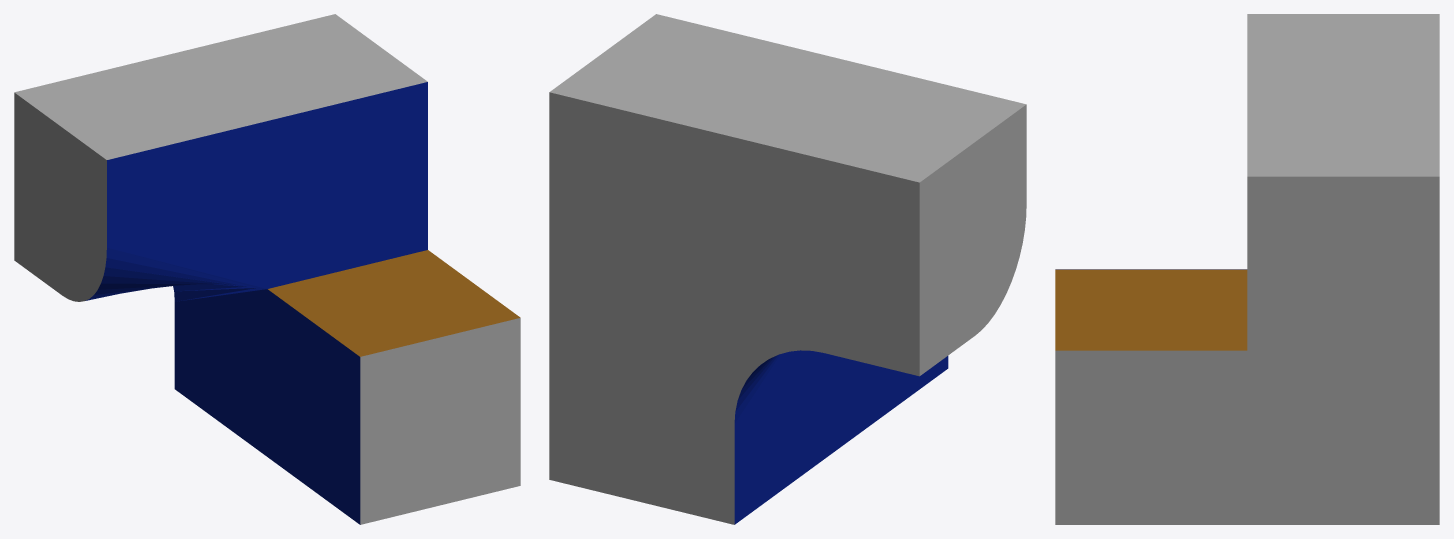
File: case_54.fbx
3 renders of one model, left to right at view 1: azimuth 30°, elevation 25°; view 2: azimuth 150°, elevation 25°; view 3: azimuth 270°, elevation 25°, orthographic. The views are drawn at different scales.
Visible parts, largest first — view 1: case_54; view 2: case_54; view 3: case_54.
Part boxes in pixels (x1,y1,x2,y2): case_54: (14, 14, 520, 524); case_54: (549, 14, 1026, 524); case_54: (1055, 14, 1439, 524).
Size of the model in its own units: 1 by 1 by 1.
